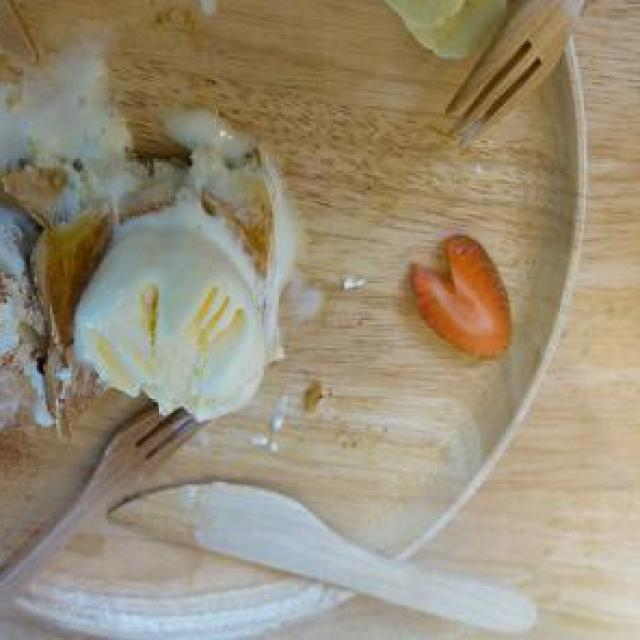knife: (102, 476, 542, 636)
